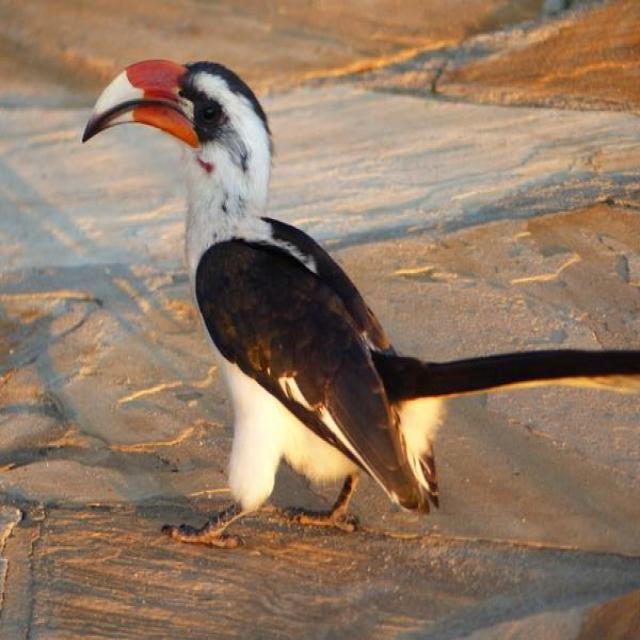Hornbill: (75, 49, 442, 551)
